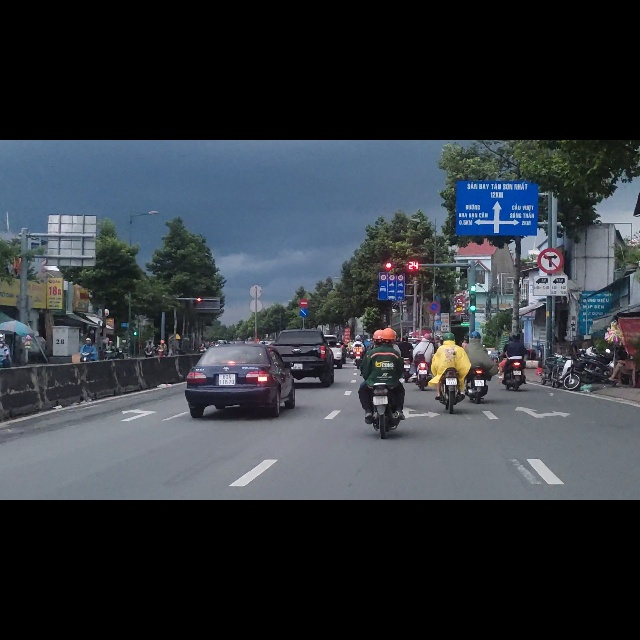bien_cam: (537, 193, 564, 237), (379, 251, 404, 285), (428, 288, 440, 308), (299, 282, 309, 297), (299, 300, 309, 314), (380, 238, 387, 250), (389, 239, 395, 250), (398, 239, 404, 250)
